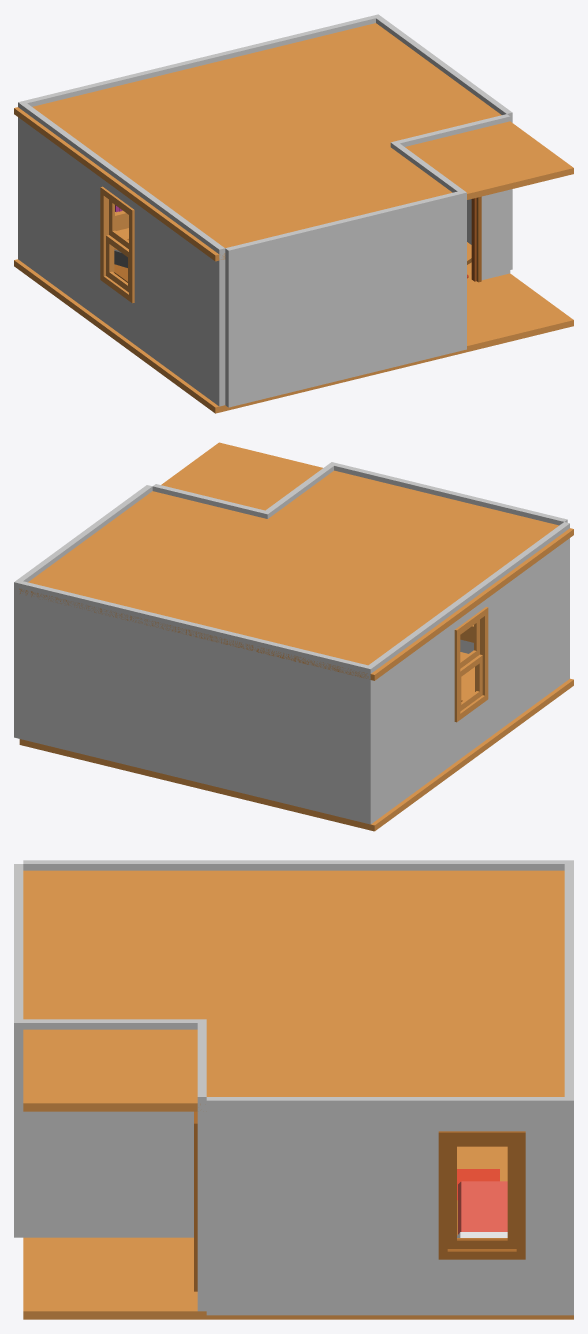
The model's file is room.fbx.
3 renders of one model, top to bottom at view 1: azimuth 30°, elevation 25°; view 2: azimuth 150°, elevation 25°; view 3: azimuth 270°, elevation 25°, orthographic. The views are drawn at different scales.
Parts seen in each view (by area): view 1: Room; view 2: Room; view 3: Room.
Boxes of the visible parts, bbox=[...] form: Room: bbox=[14, 14, 573, 413]; Room: bbox=[14, 442, 573, 831]; Room: bbox=[14, 860, 573, 1319].
Bounding box in the file's own units: 315 × 134 × 305.
Materials: 1 (1 with a texture image).
